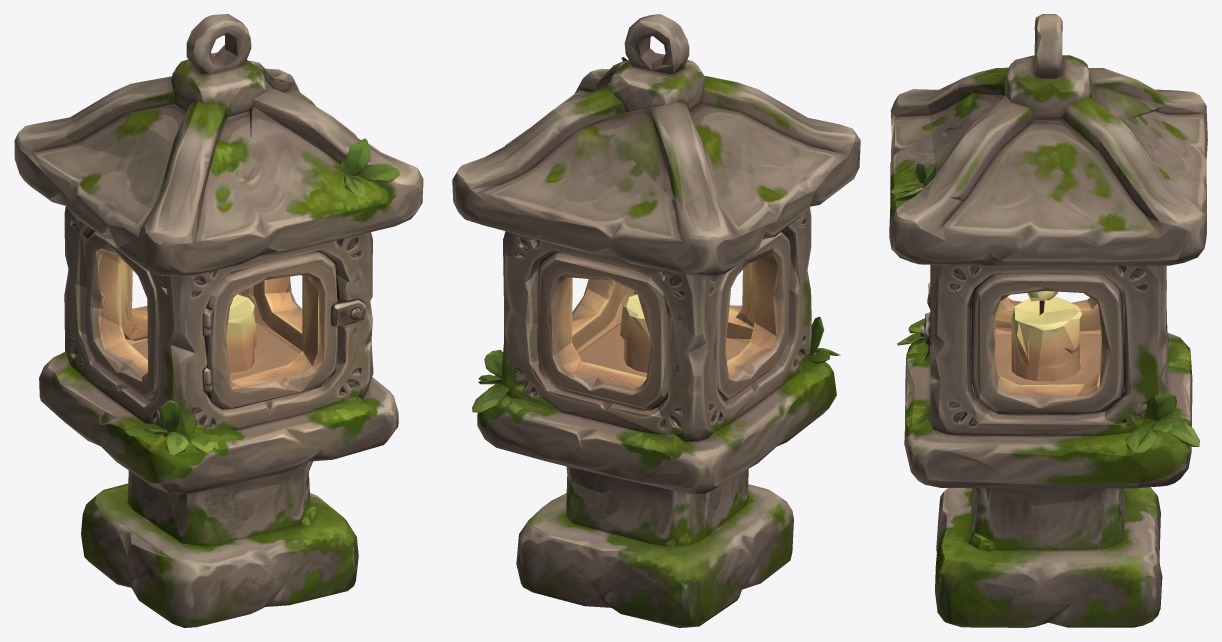
File: stone_lantern.fbx
The picture shows the model from 3 angles, left to right: view 1: azimuth 30°, elevation 25°; view 2: azimuth 150°, elevation 25°; view 3: azimuth 270°, elevation 25°; orthographic projection.
Visible parts, largest first — view 1: stone_lantern; view 2: stone_lantern; view 3: stone_lantern.
Boxes of the visible parts, box(x1,y1,x2,y2) form: stone_lantern: box(14, 14, 423, 627); stone_lantern: box(452, 14, 860, 627); stone_lantern: box(889, 14, 1207, 627).
Bounding box in the file's own units: 0.9273 × 1.8 × 0.9155.
